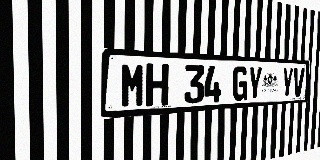3: (184, 65, 204, 104)
4: (204, 65, 222, 103)
G: (232, 66, 248, 101)
H: (146, 63, 169, 107)
M: (120, 62, 145, 108)
V: (293, 68, 304, 97)
Y: (247, 67, 262, 100), (281, 68, 294, 98)
